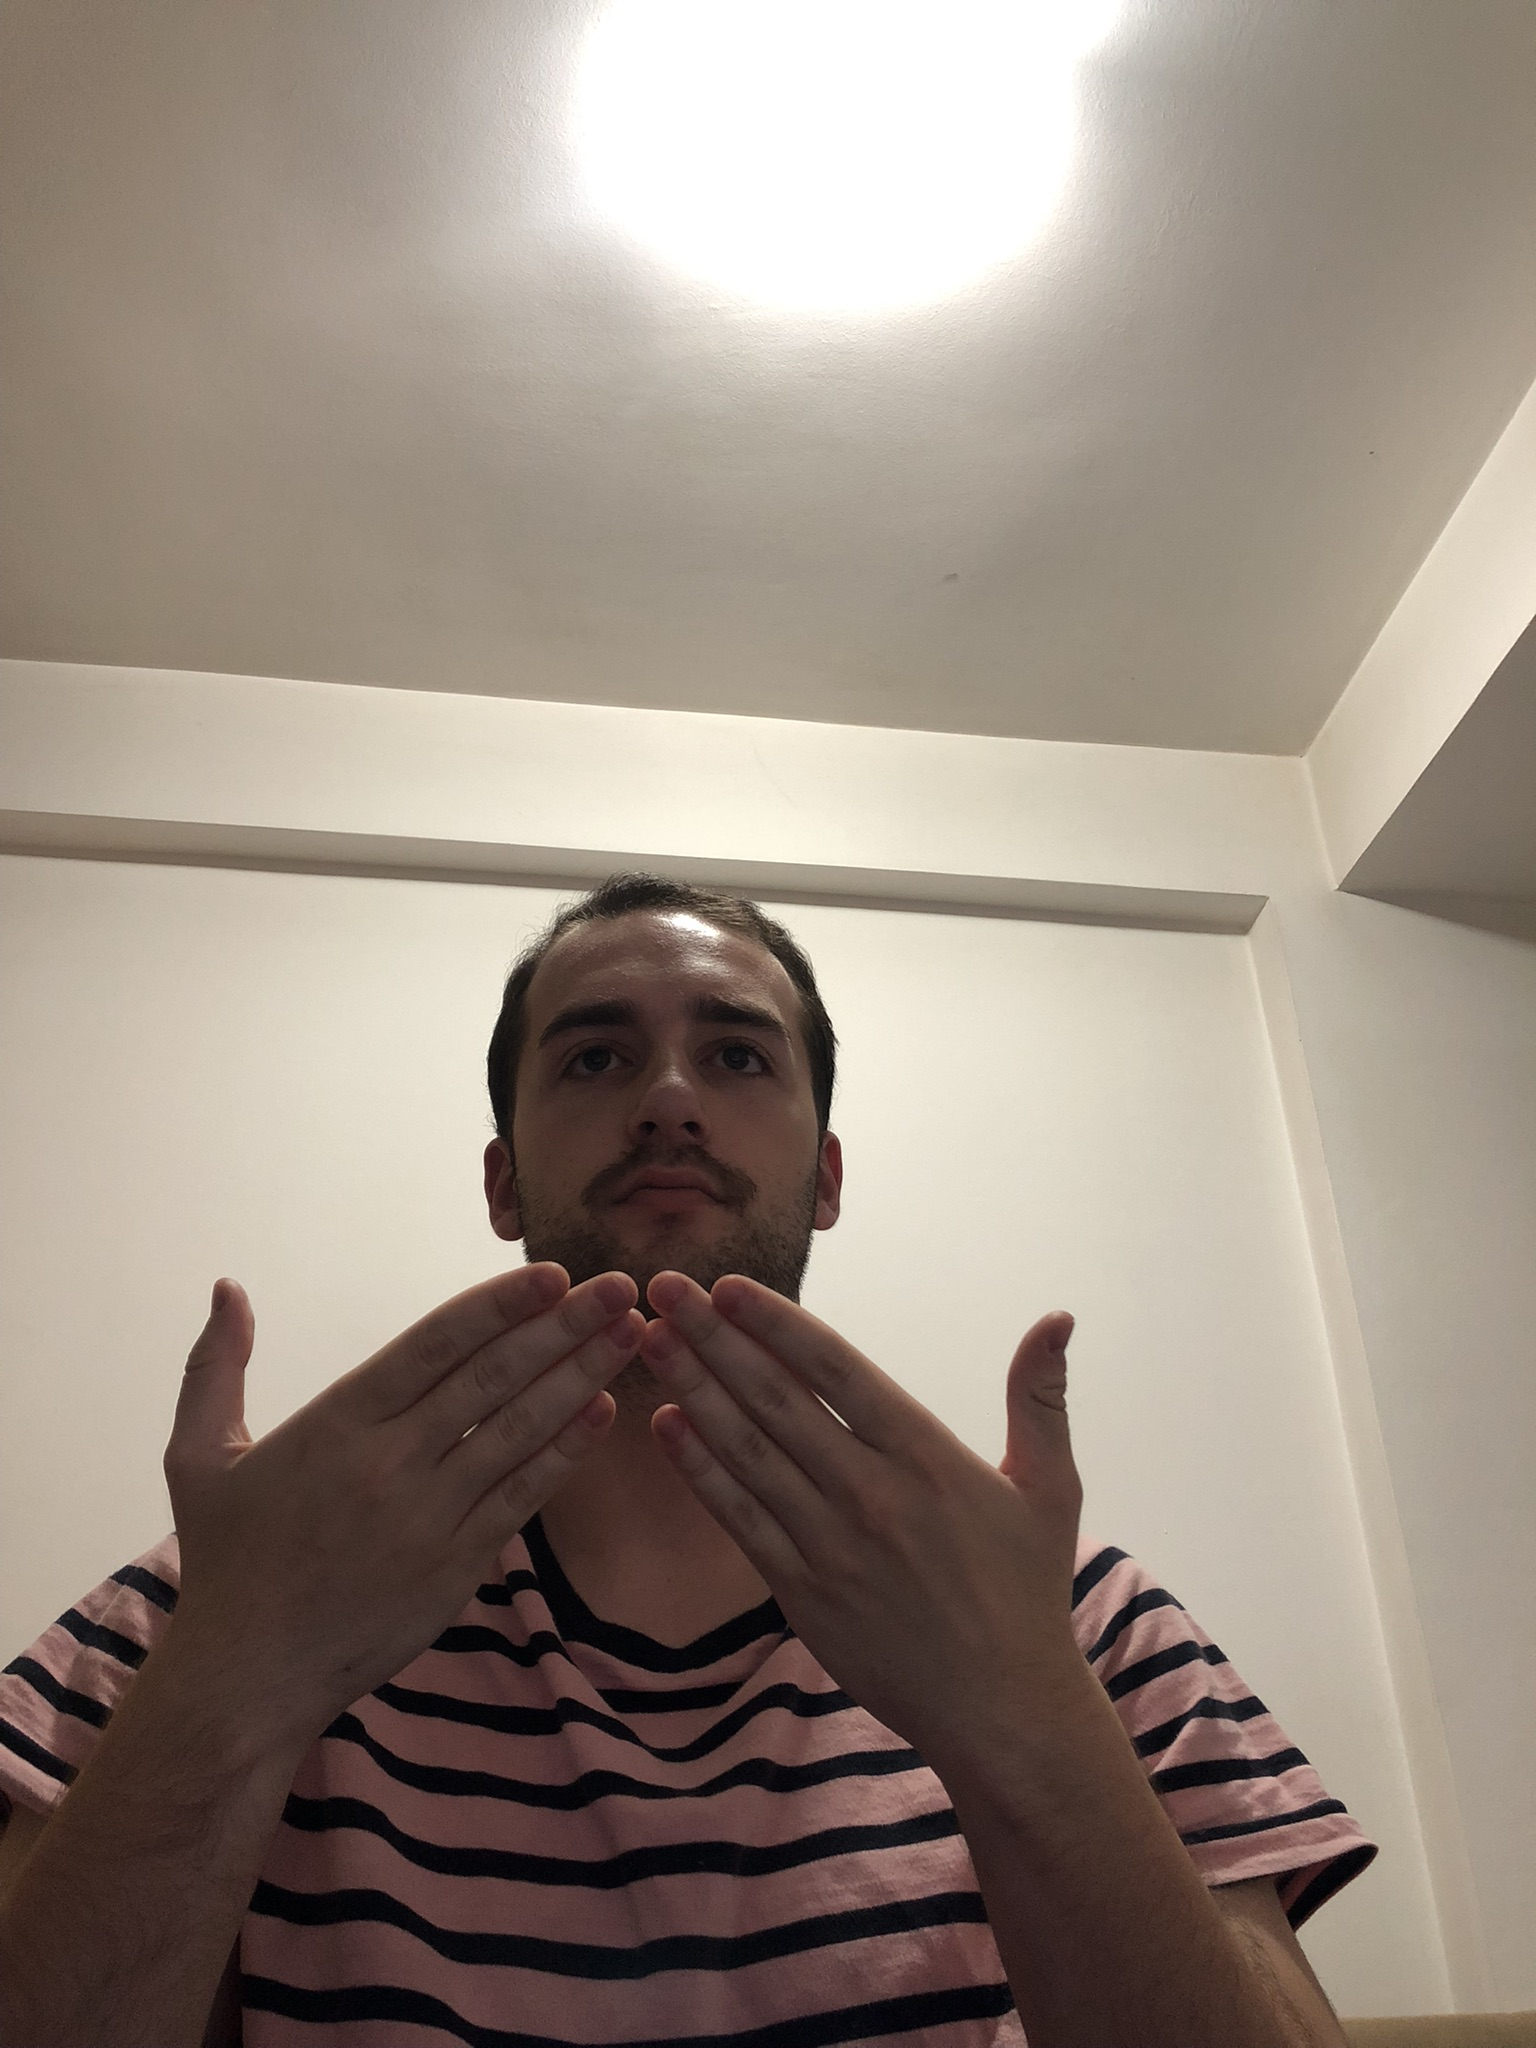Thank You: (161, 1259, 1087, 1816)
